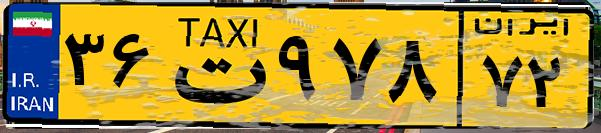2: (525, 38, 570, 115)
3: (57, 26, 110, 100)
6: (110, 28, 158, 98)
7: (330, 28, 385, 110), (475, 38, 525, 113)
8: (385, 28, 445, 110)
9: (270, 28, 330, 110)
ت: (158, 12, 270, 120)
